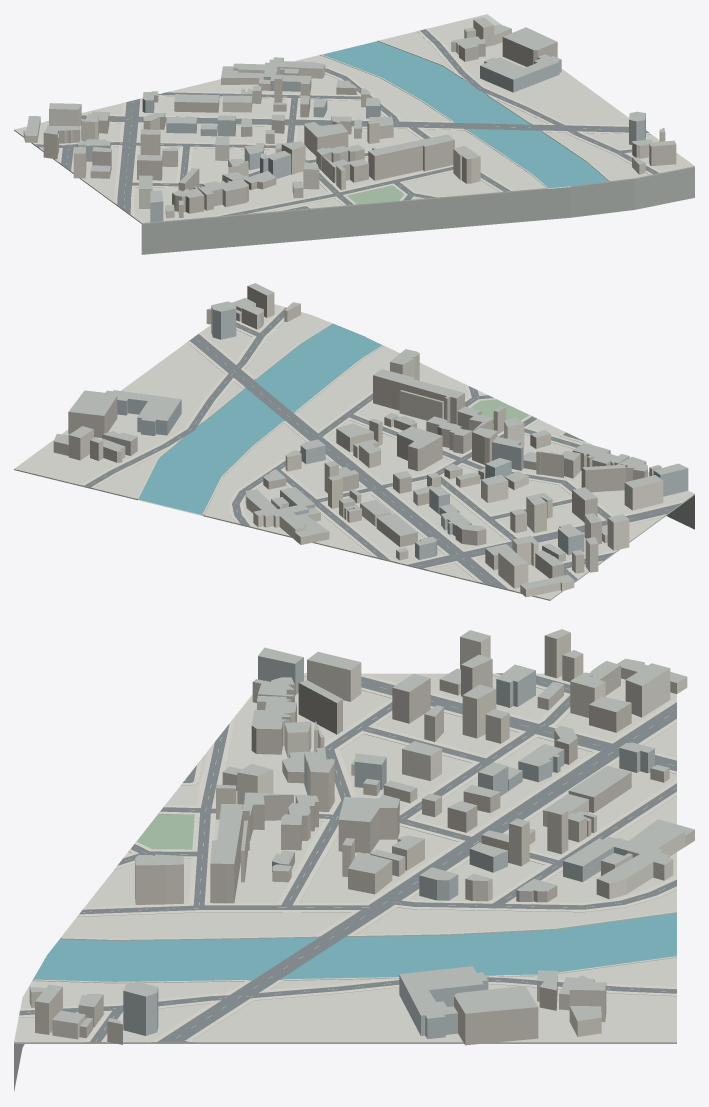
3 views of the same model, one above another, from view 1: azimuth 30°, elevation 25°; view 2: azimuth 150°, elevation 25°; view 3: azimuth 270°, elevation 25° (orthographic). The views are drawn at different scales.
Visible parts, largest first — view 1: city; view 2: city; view 3: city.
Part boxes in pixels (bbox=[...]): city: bbox=[14, 14, 694, 254]; city: bbox=[14, 283, 694, 600]; city: bbox=[14, 629, 694, 1091].
Size of the model in its own units: 511 by 57 by 390.
